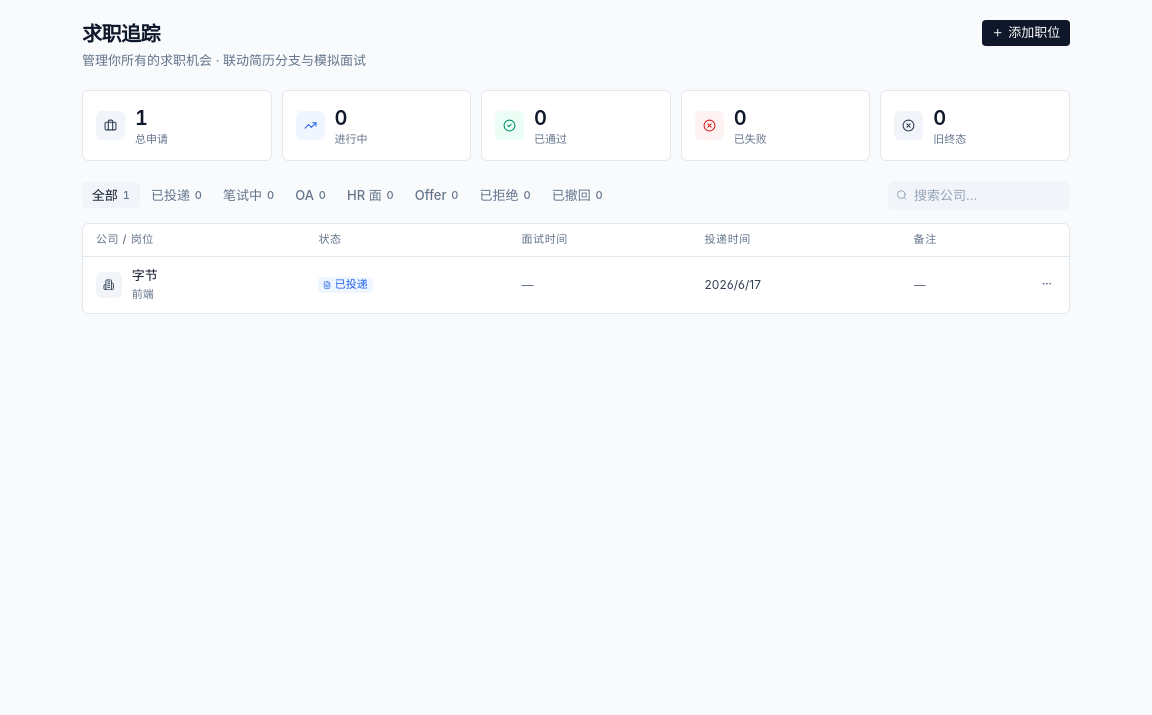
it: Jobs page — JobsDetailPanel mounting (020 D-014) › clicking the row surfaces the resume CTA from JobsDetailPanel
Click the row with test id "job-row-job-1". click: (346,285)
box: [83, 256, 1069, 312]
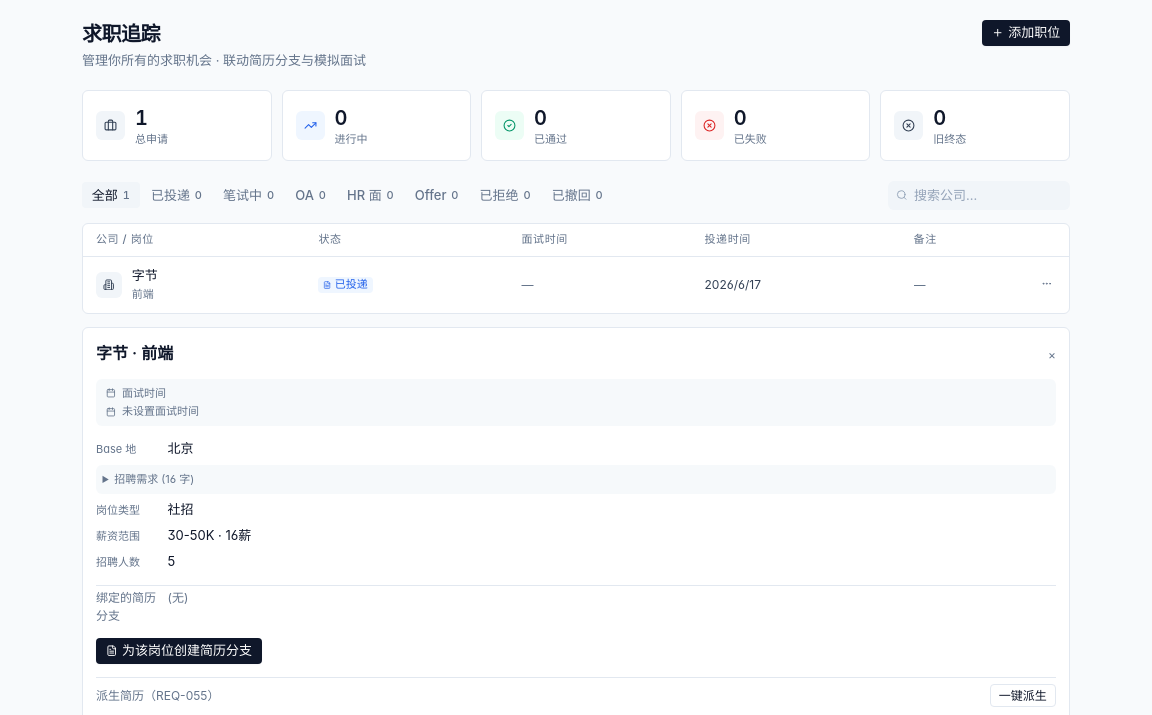
Now the button with test id "job-detail-resume-cta" is shown, box [96, 638, 262, 664]
